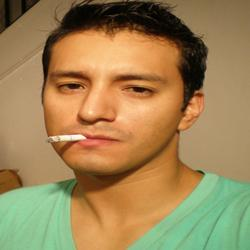cigarette: (46, 134, 86, 143)
